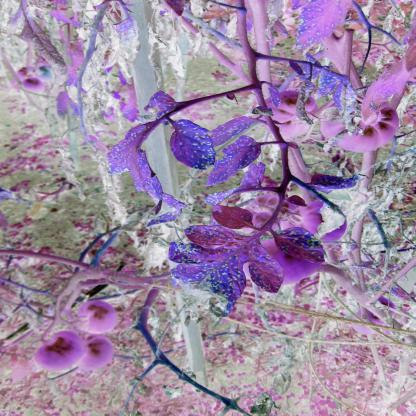tomato septoria leaf spot: (162, 219, 278, 314), (93, 111, 188, 215), (203, 133, 268, 192), (161, 117, 217, 171), (273, 228, 332, 265), (301, 169, 369, 192)
